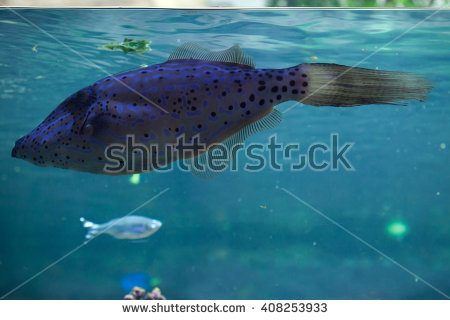Aluterus_scriptus: (5, 42, 437, 184)
